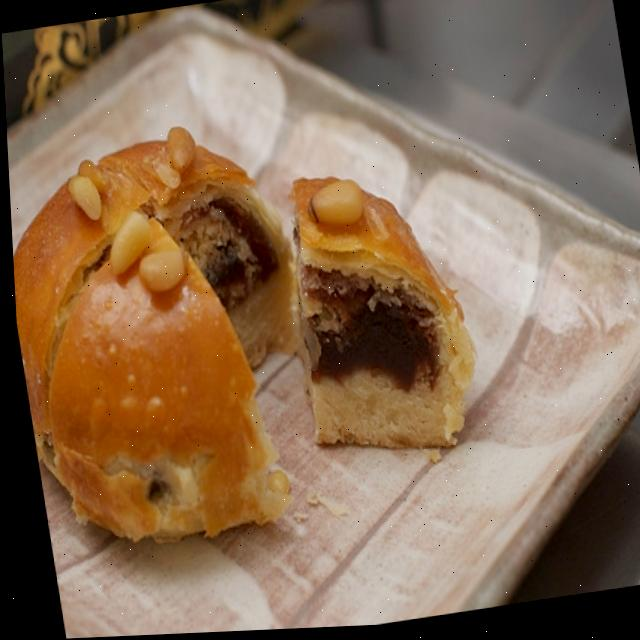蛋糕甜品: (2, 36, 506, 594)
